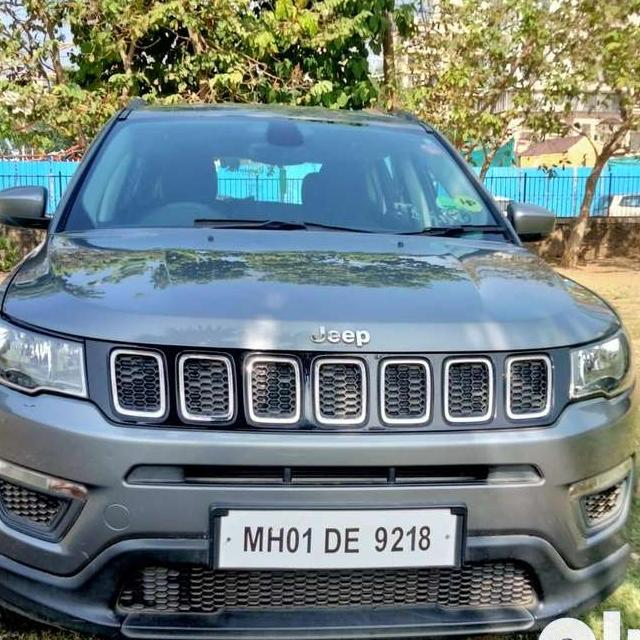Indian_Number_Plate: (212, 503, 466, 574)
